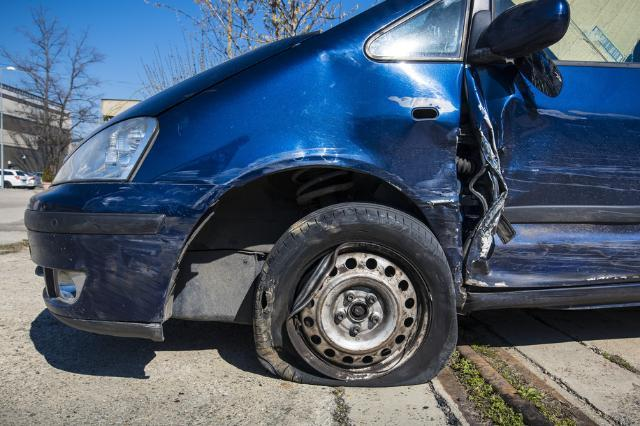Bumper: (25, 182, 196, 354)
Door: (472, 46, 640, 290)
Fender: (176, 56, 466, 214)
